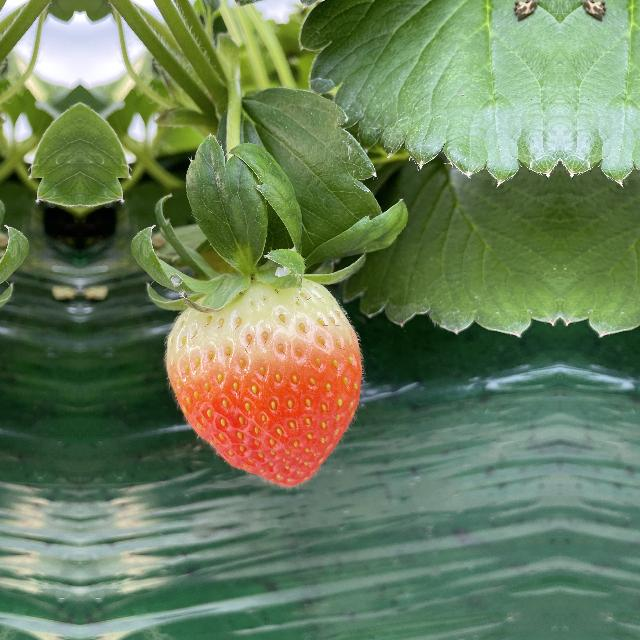Health_100: (146, 276, 372, 492)
